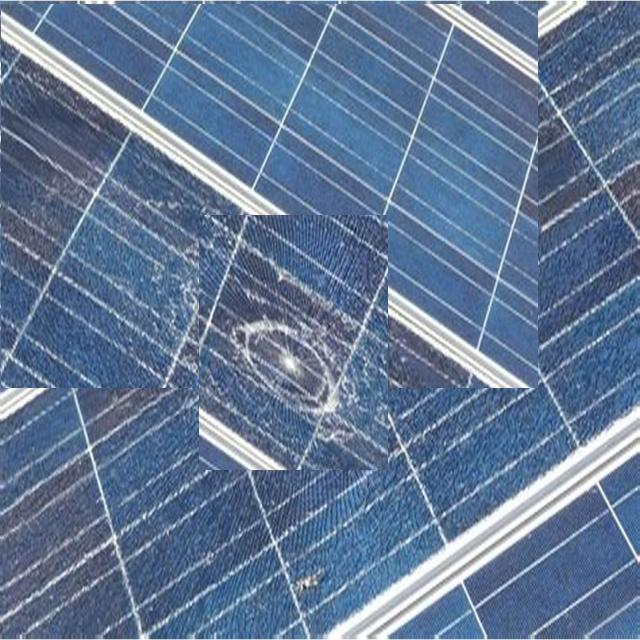Physical-damage: (200, 216, 388, 470)
